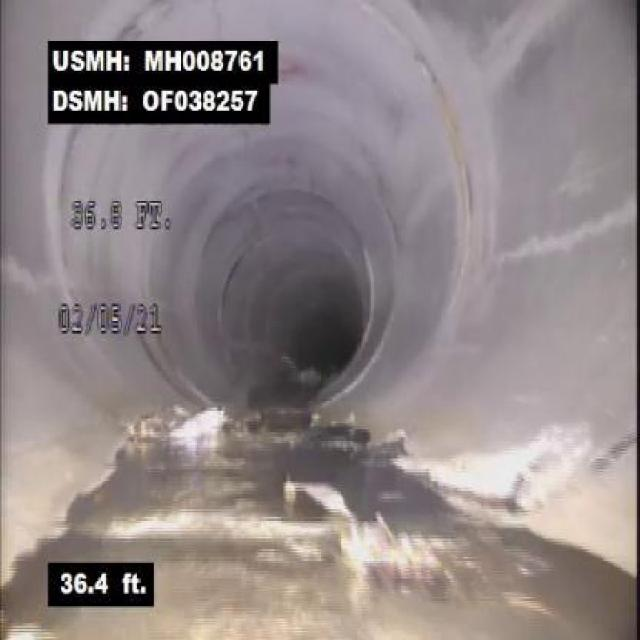Hole: (398, 411, 608, 523)
